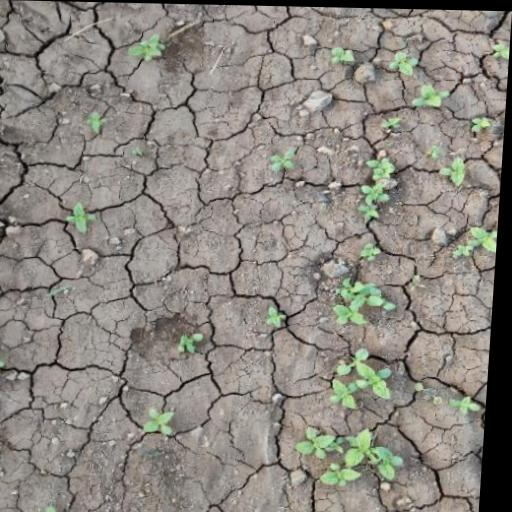crop: (320, 36, 453, 109), (332, 351, 403, 408), (358, 148, 403, 223), (446, 209, 501, 265), (339, 280, 400, 324), (65, 195, 106, 247), (136, 404, 188, 441), (125, 30, 168, 60), (435, 152, 470, 188), (266, 147, 308, 176), (0, 333, 17, 404)
